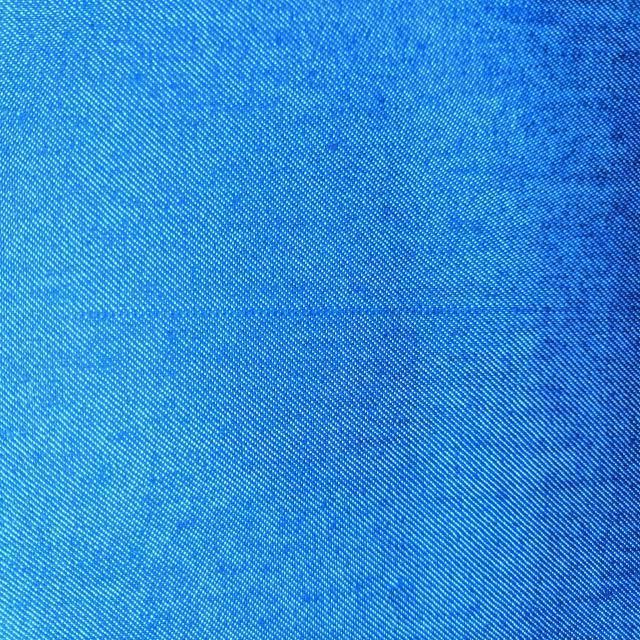Line: (74, 305, 564, 334)
